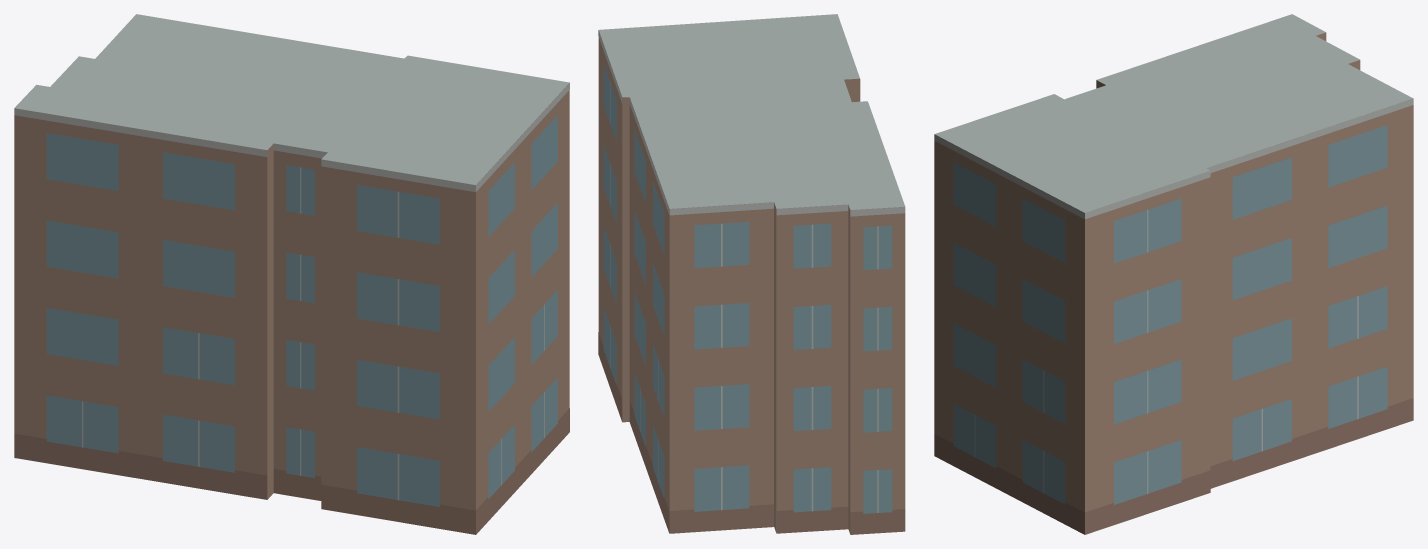
Rendered from survey-upis-33002287.glb.
The picture shows the model from 3 angles, left to right: view 1: azimuth 30°, elevation 25°; view 2: azimuth 150°, elevation 25°; view 3: azimuth 270°, elevation 25°; orthographic projection. The views are drawn at different scales.
Parts seen in each view (by area): view 1: survey-upis-33002287.tmp; view 2: survey-upis-33002287.tmp; view 3: survey-upis-33002287.tmp.
Boxes of the visible parts, <box> form: survey-upis-33002287.tmp: <box>14,14,569,534</box>; survey-upis-33002287.tmp: <box>598,14,905,534</box>; survey-upis-33002287.tmp: <box>934,14,1413,534</box>.
Size of the model in its own units: 16.18 by 12.2 by 16.47.
